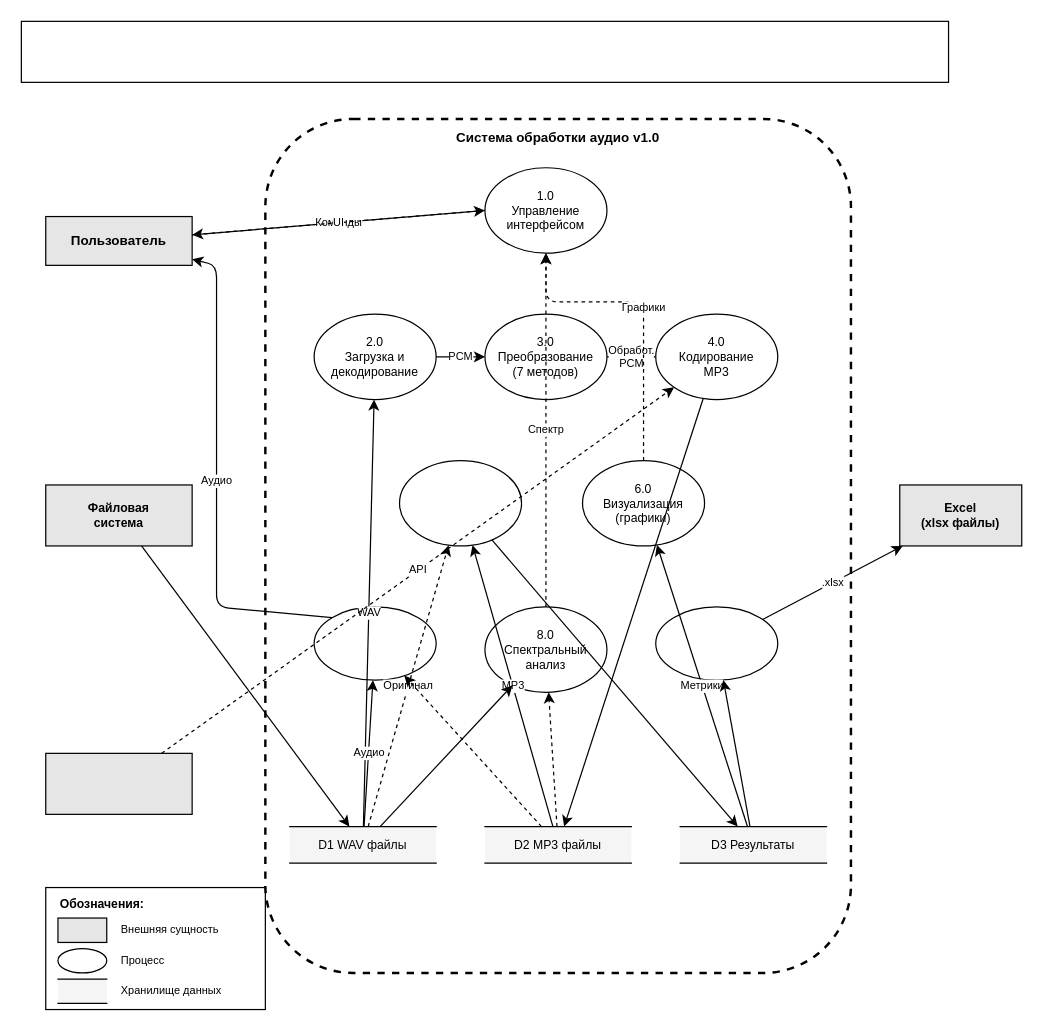
The diagram is 1043 pixels wide and 1031 high, and some of its shapes have lost their labels. Here are the shapes that lost their labels. From the top down, the box of each, then its label:
(20, 20, 949, 82): Аудио Трансформер v1.0 — Диаграмма потоков данных (DFD) Лист 1 из 1
(398, 459, 522, 546): 5.0 Расчёт метрик
(313, 606, 436, 680): 7.0 Плеер
(655, 606, 778, 680): 9.0 Экспорт в Excel
(45, 752, 192, 814): FFmpeg (кодек MP3)
